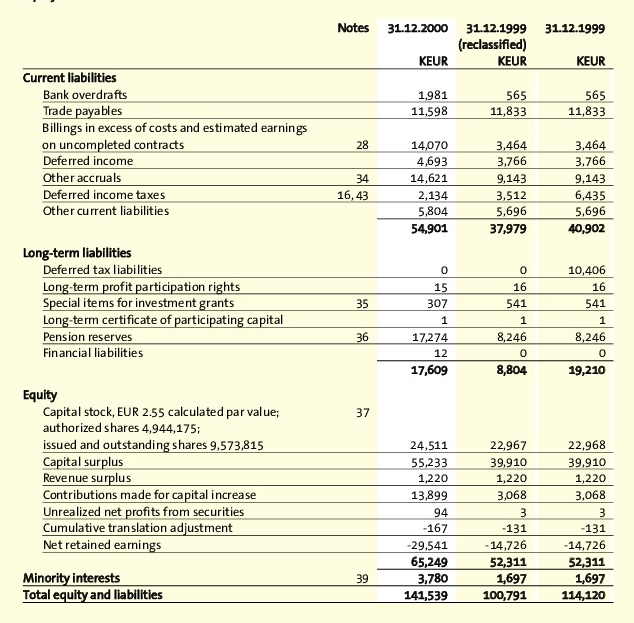table: (0, 0, 634, 623)
